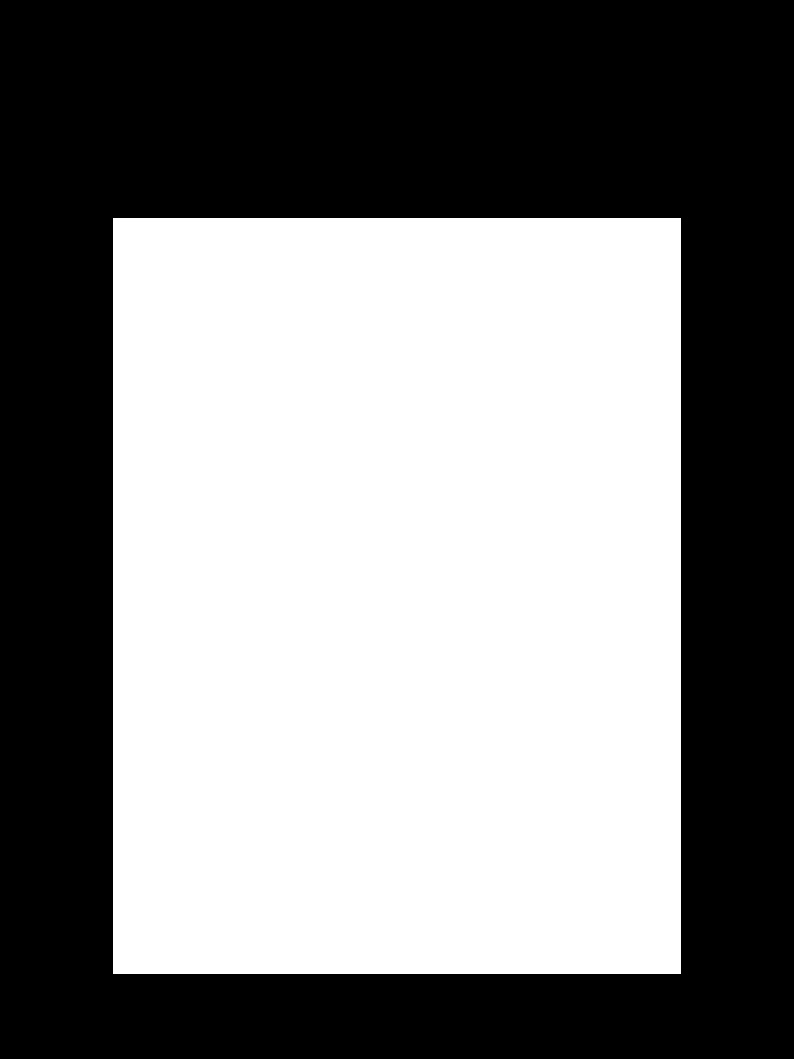table: (113, 218, 680, 973)
